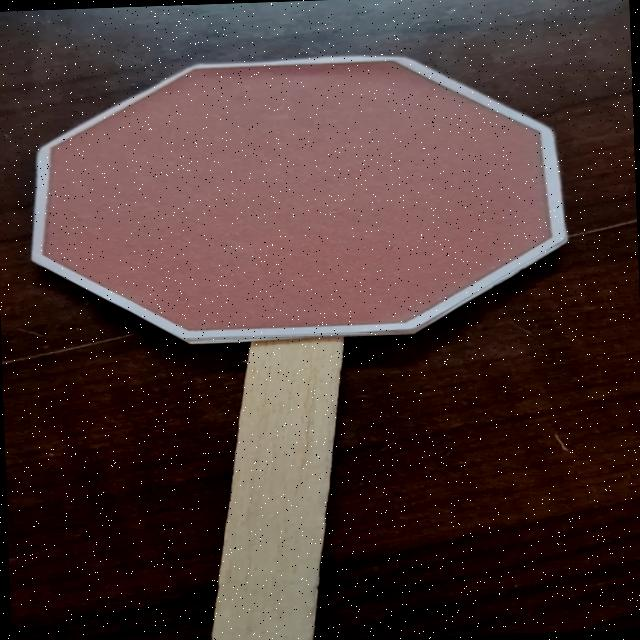Stop: (26, 40, 570, 354)
